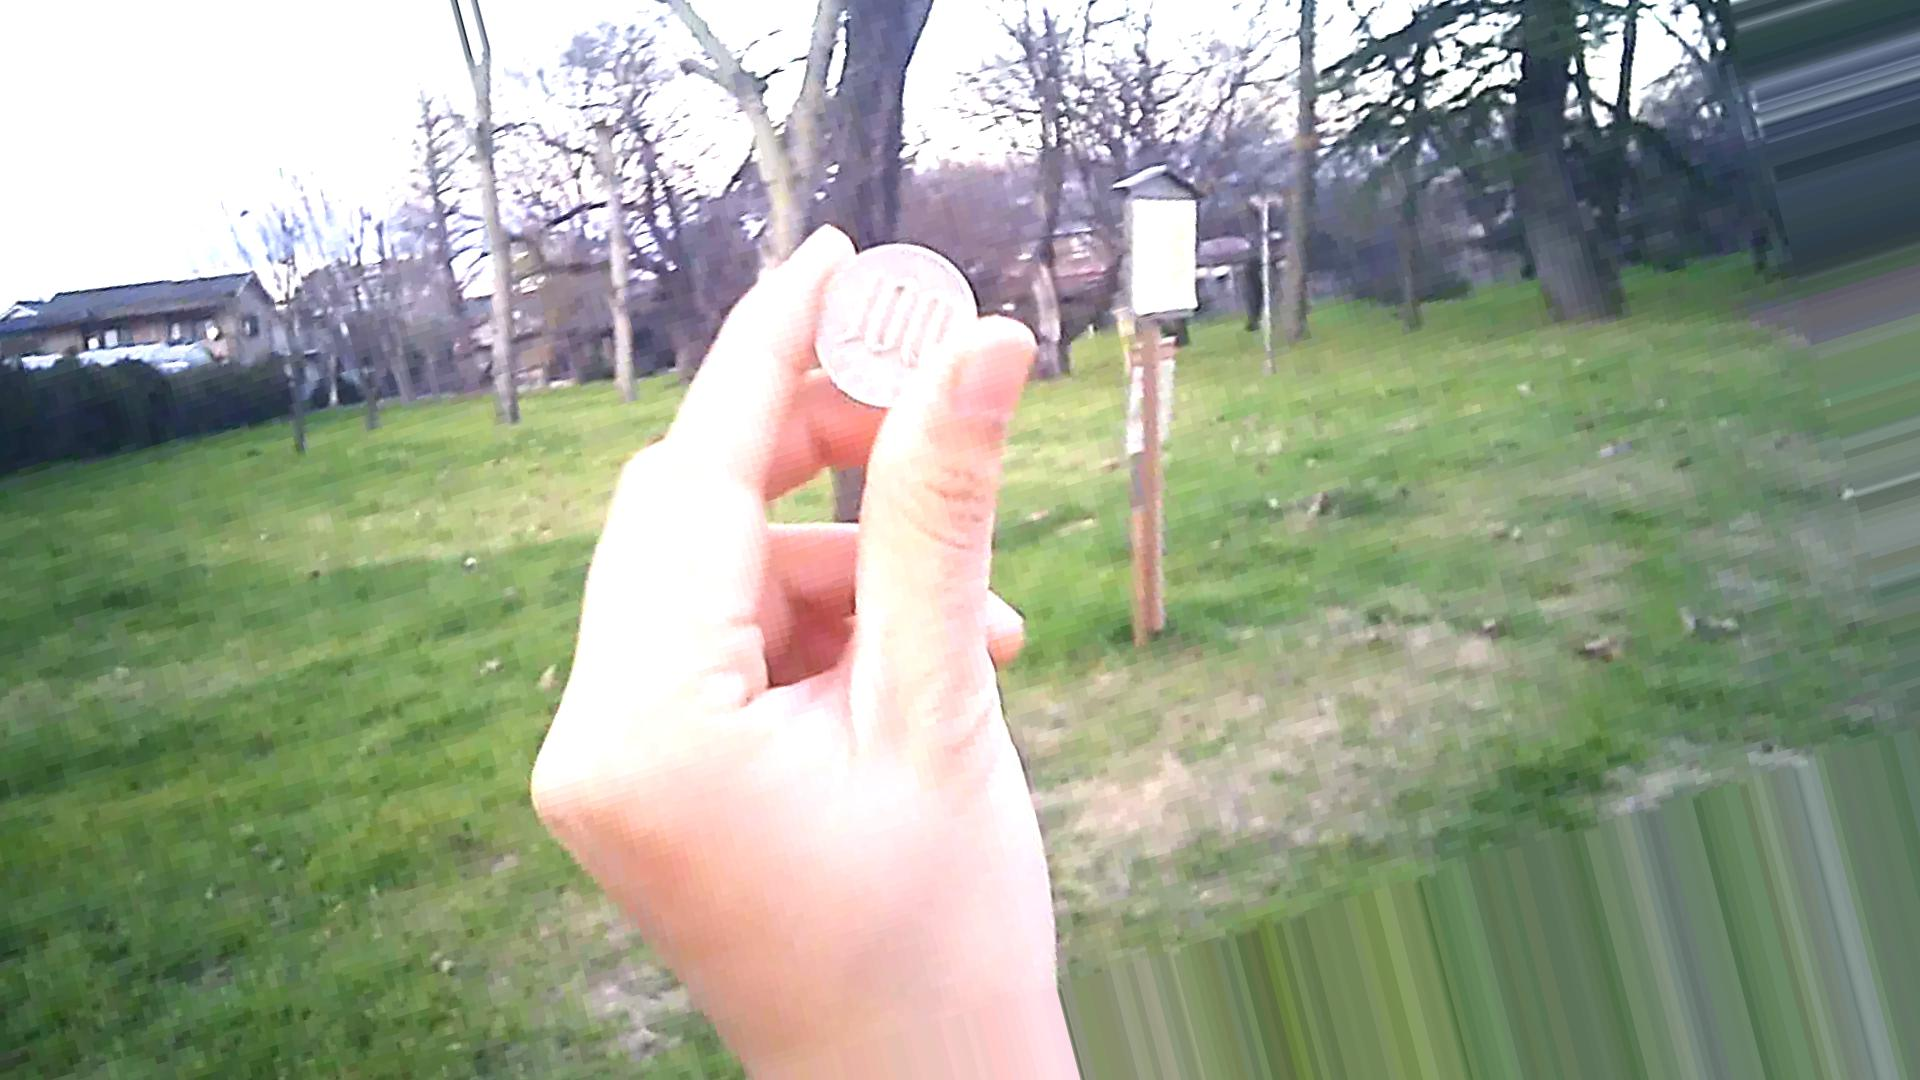100 Yen: (789, 239, 1007, 421)
